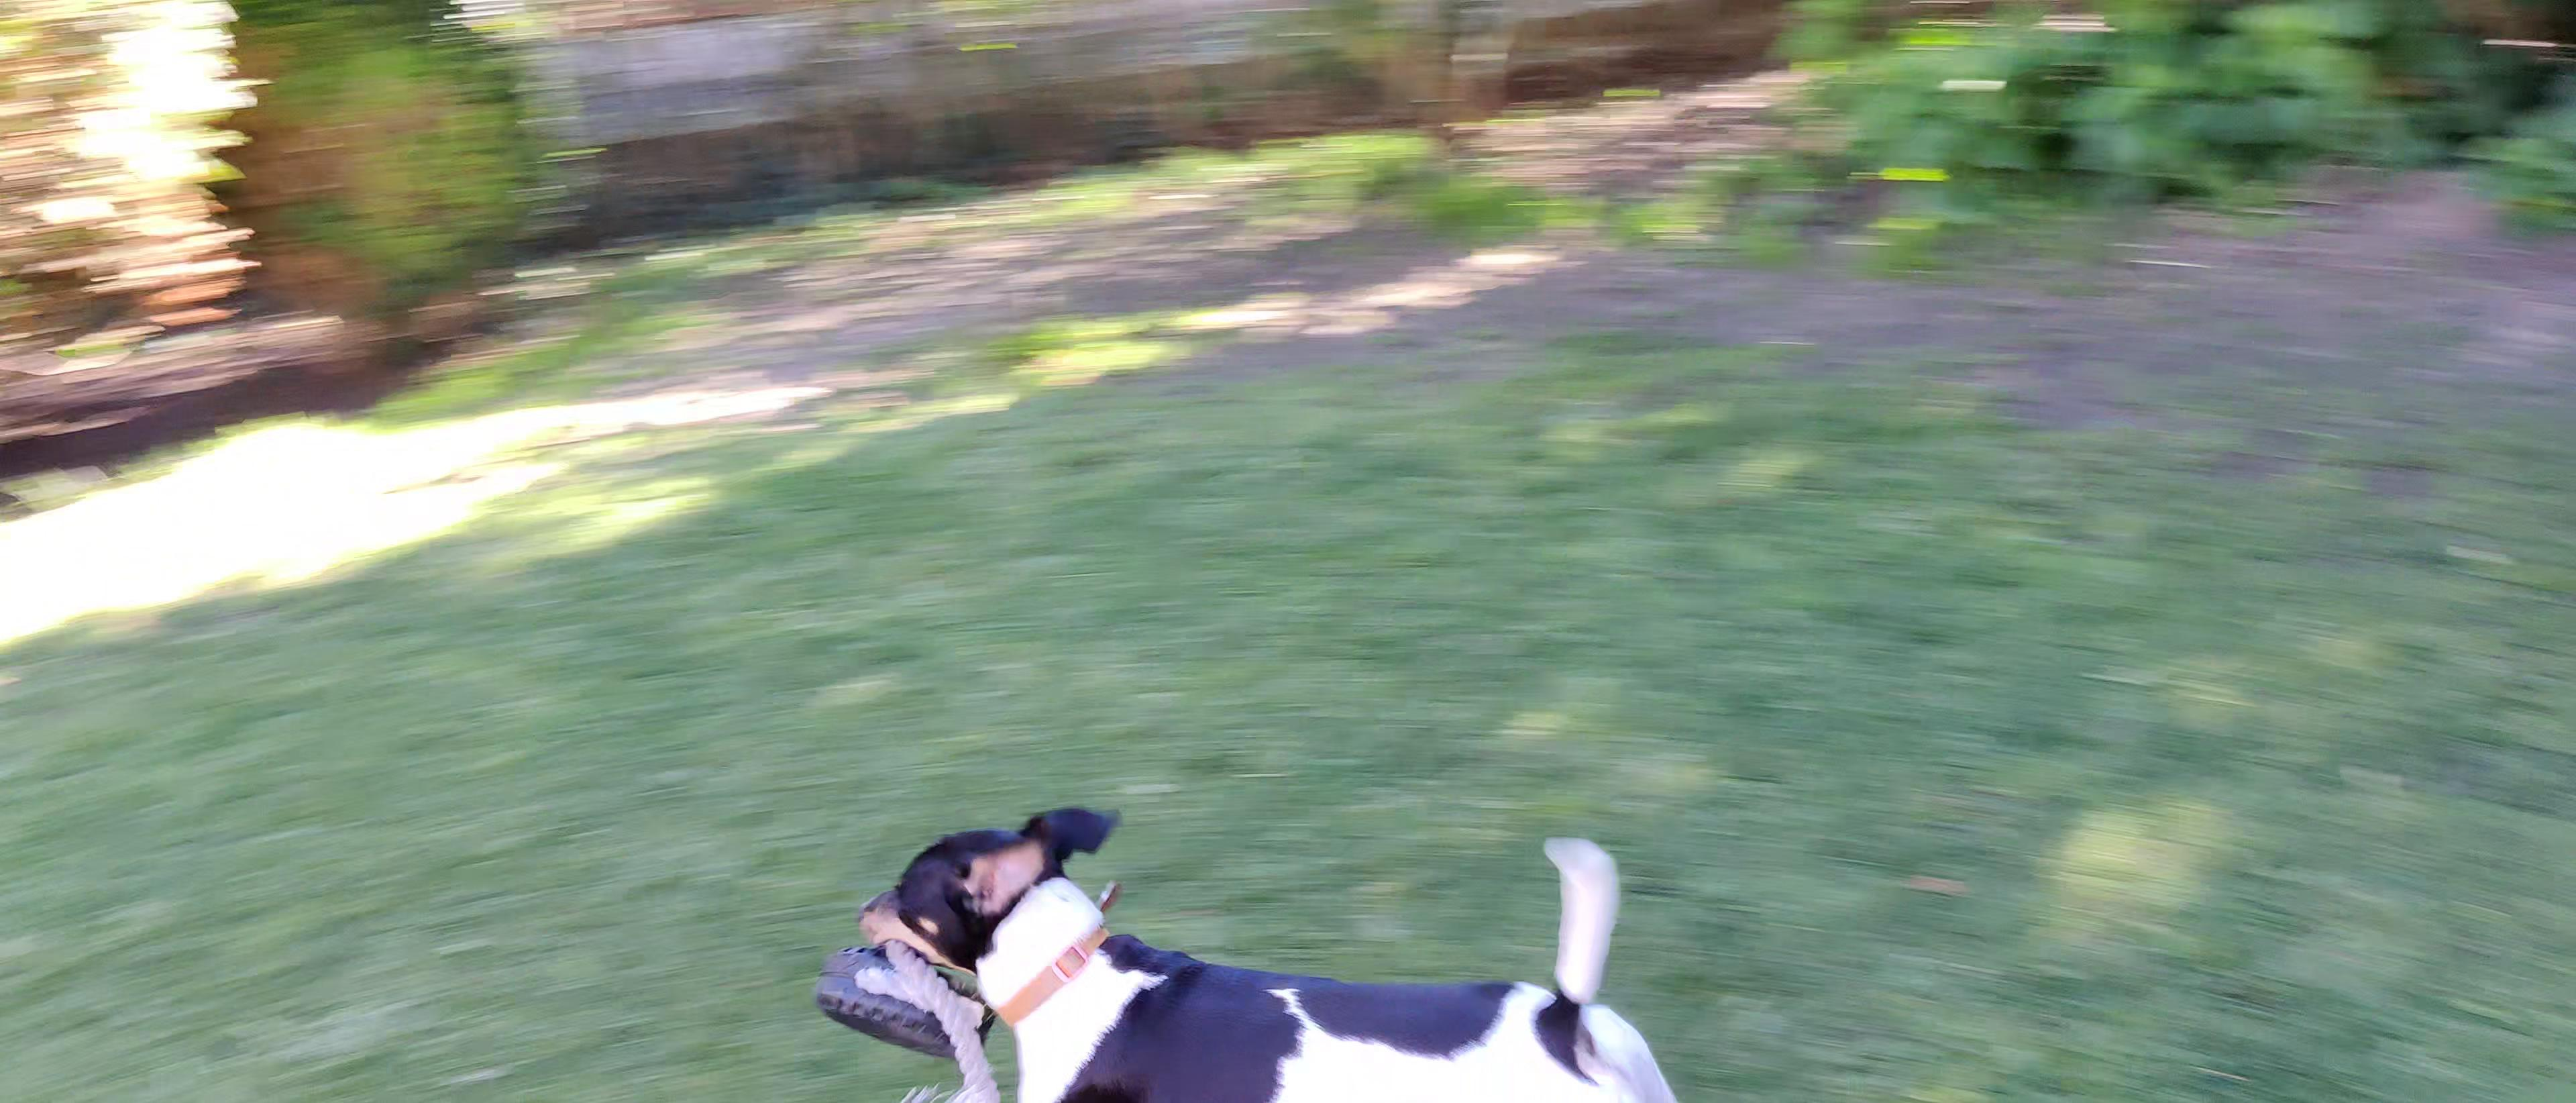Dog: (843, 792, 1717, 1103)
